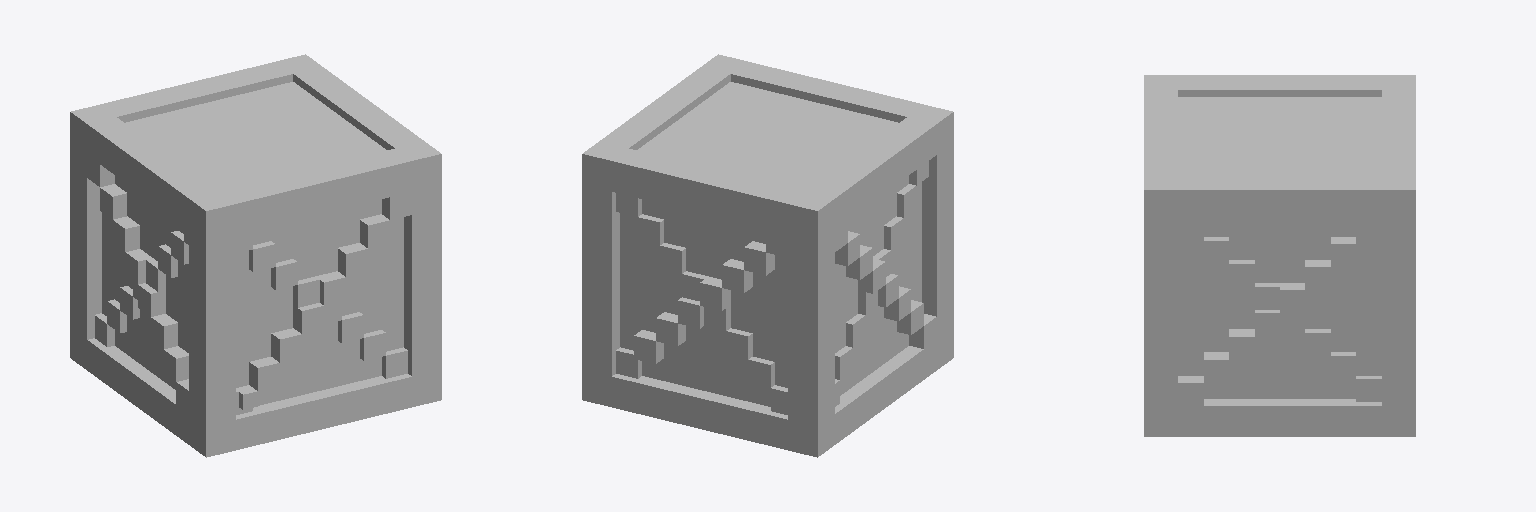
The model's file is Crate.obj.
3 renders of one model, left to right at view 1: azimuth 30°, elevation 25°; view 2: azimuth 150°, elevation 25°; view 3: azimuth 270°, elevation 25°, orthographic.
Parts seen in each view (by area): view 1: Crate; view 2: Crate; view 3: Crate.
Boxes of the visible parts, x1,y1,x2,y2 form: Crate: [70, 54, 441, 457]; Crate: [582, 54, 953, 457]; Crate: [1144, 75, 1415, 436].
Bounding box in the file's own units: 3.2 × 3.2 × 3.2.